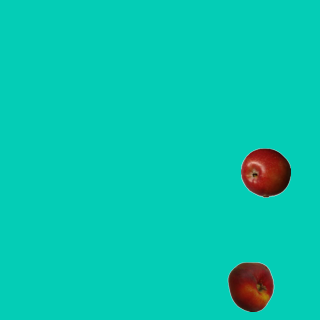Apple Braeburn: (240, 147, 290, 197)
Nectarine Flat: (225, 261, 275, 311)
